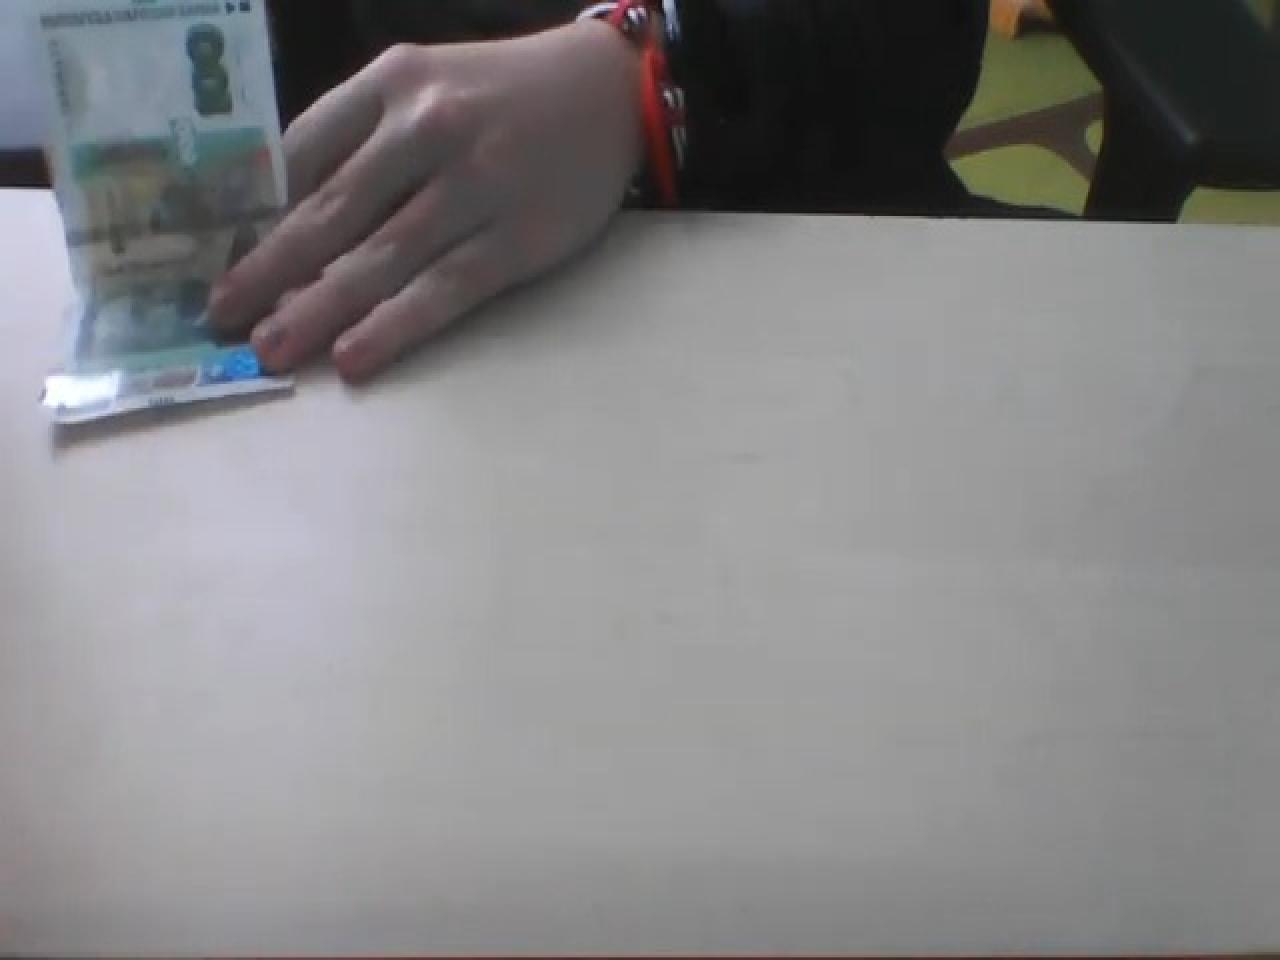100leva: (32, 0, 298, 427)
